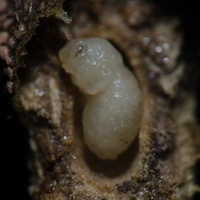insect: (57, 36, 143, 161), (59, 38, 141, 159)
